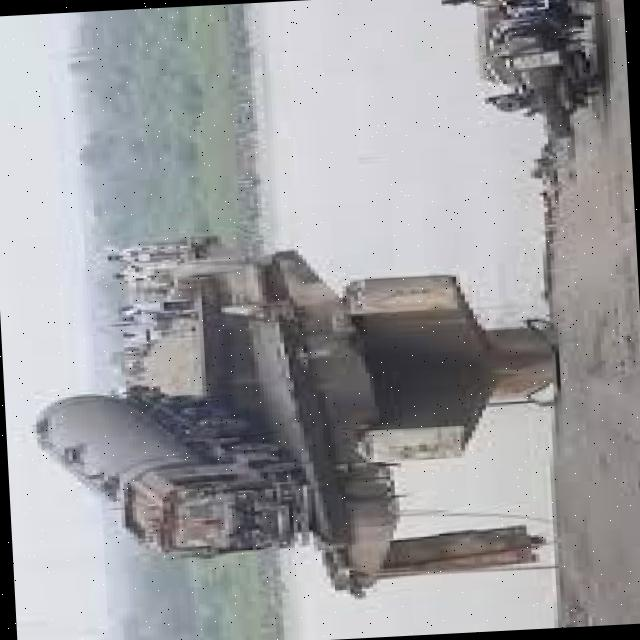bridge collapse: (115, 89, 640, 640)
